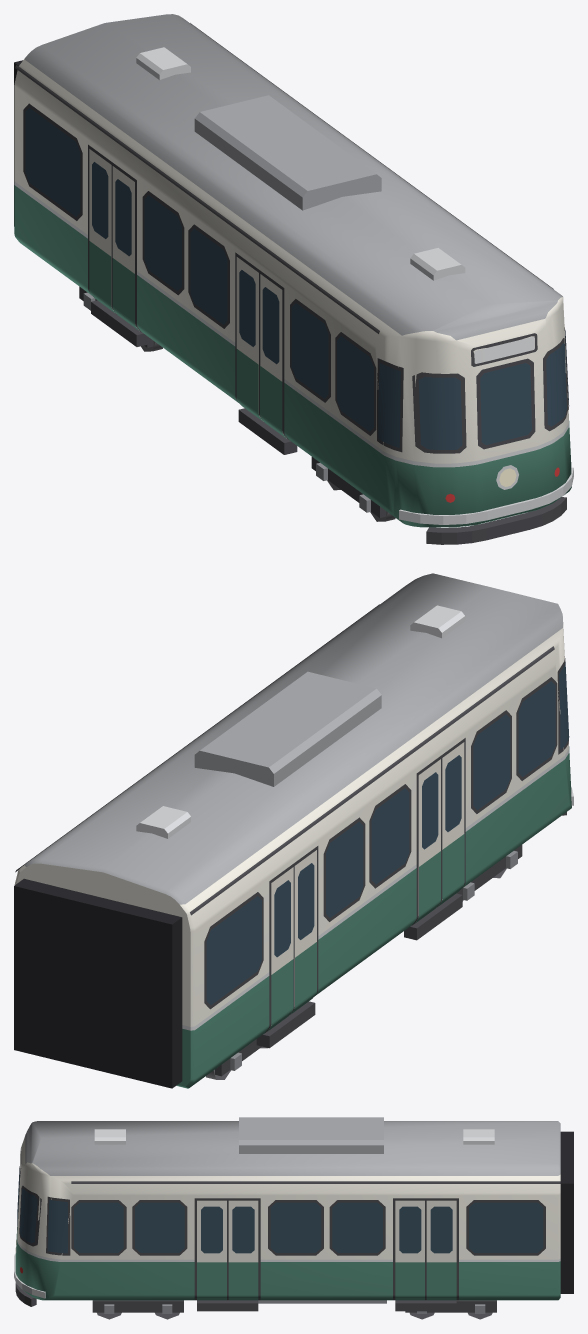
3 renders of one model, top to bottom at view 1: azimuth 30°, elevation 25°; view 2: azimuth 150°, elevation 25°; view 3: azimuth 270°, elevation 25°, orthographic. The views are drawn at different scales.
Parts seen in each view (by area): view 1: 312; view 2: 312; view 3: 312.
Boxes of the visible parts, x1=… form: 312: x1=14, y1=14, x2=573, y2=544; 312: x1=14, y1=573, x2=573, y2=1088; 312: x1=14, y1=1117, x2=573, y2=1319.
Size of the model in its own units: 2.54 by 3.37 by 10.03.
